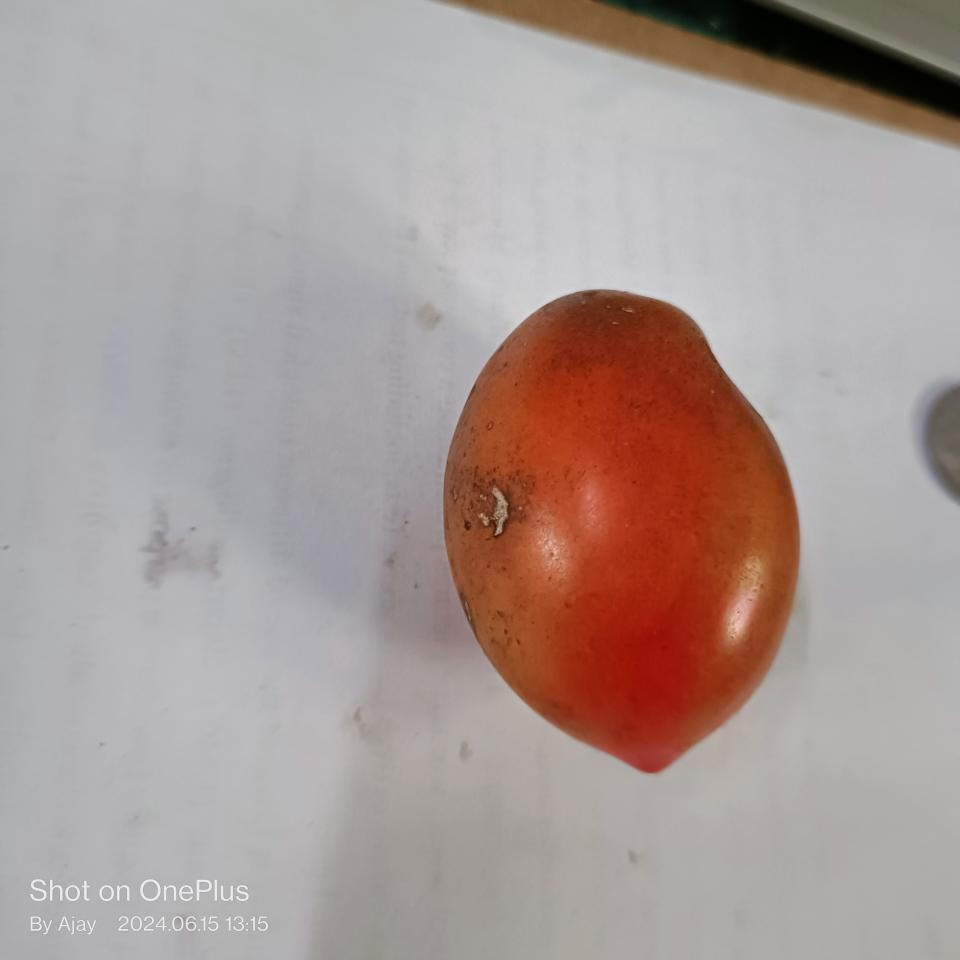Bacterial_Spot: (479, 484, 513, 538)
